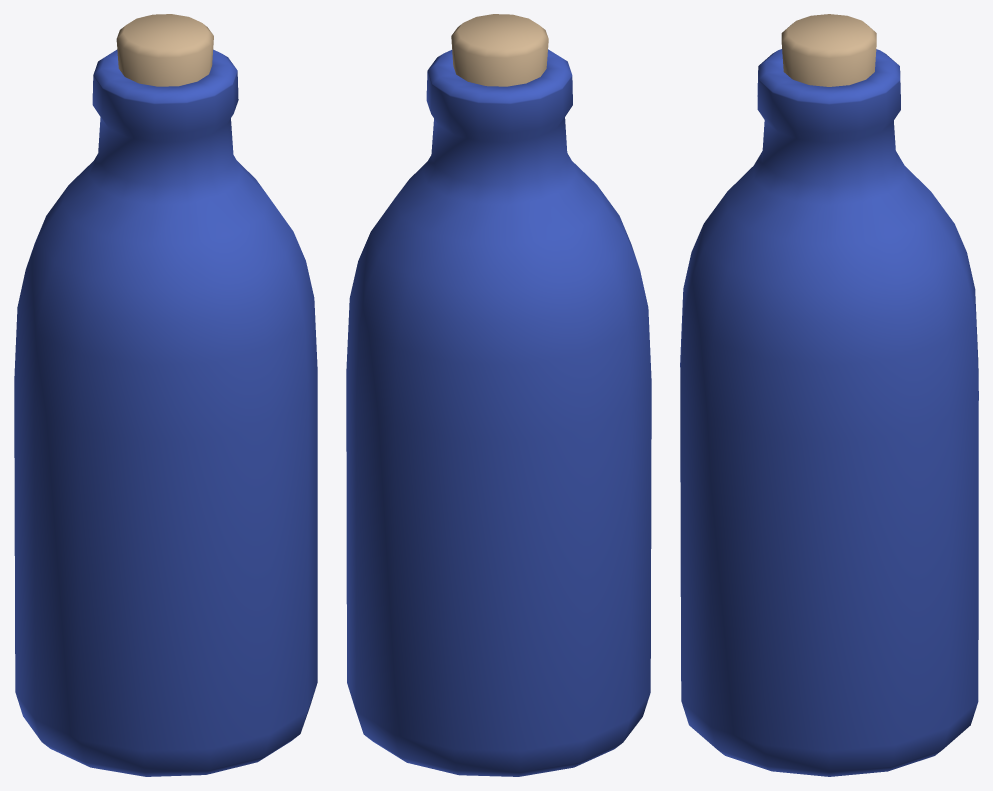
File: bottle_apothecary_lod2.glb
3 views of the same model, side by side, from view 1: azimuth 30°, elevation 25°; view 2: azimuth 150°, elevation 25°; view 3: azimuth 270°, elevation 25° (orthographic).
Visible parts, largest first — view 1: Glass, Cap; view 2: Glass, Cap; view 3: Glass, Cap.
Part boxes in pixels (x1,y1,x2,y2): Glass: (14, 49, 317, 776); Cap: (116, 14, 213, 86); Glass: (346, 49, 651, 776); Cap: (451, 14, 548, 86); Glass: (680, 49, 978, 776); Cap: (781, 14, 876, 86).
Bounding box in the file's own units: 0.047 × 0.1177 × 0.0461.
